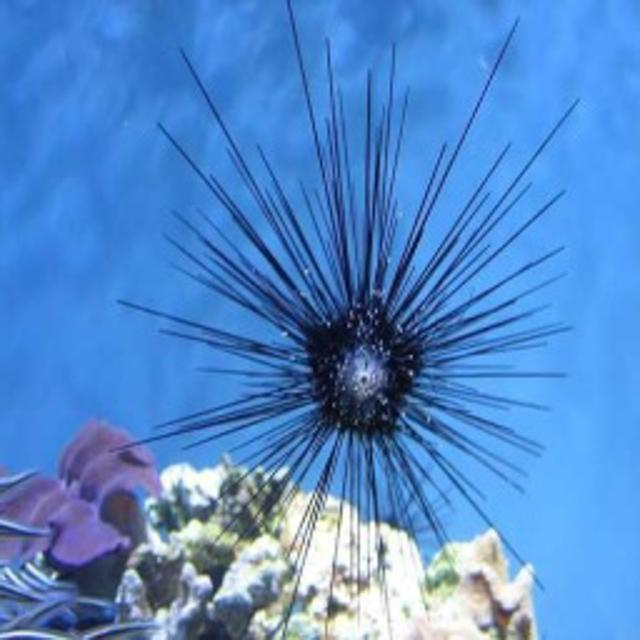Urchin: (125, 1, 577, 620)
